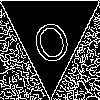O: (25, 8, 75, 69)
